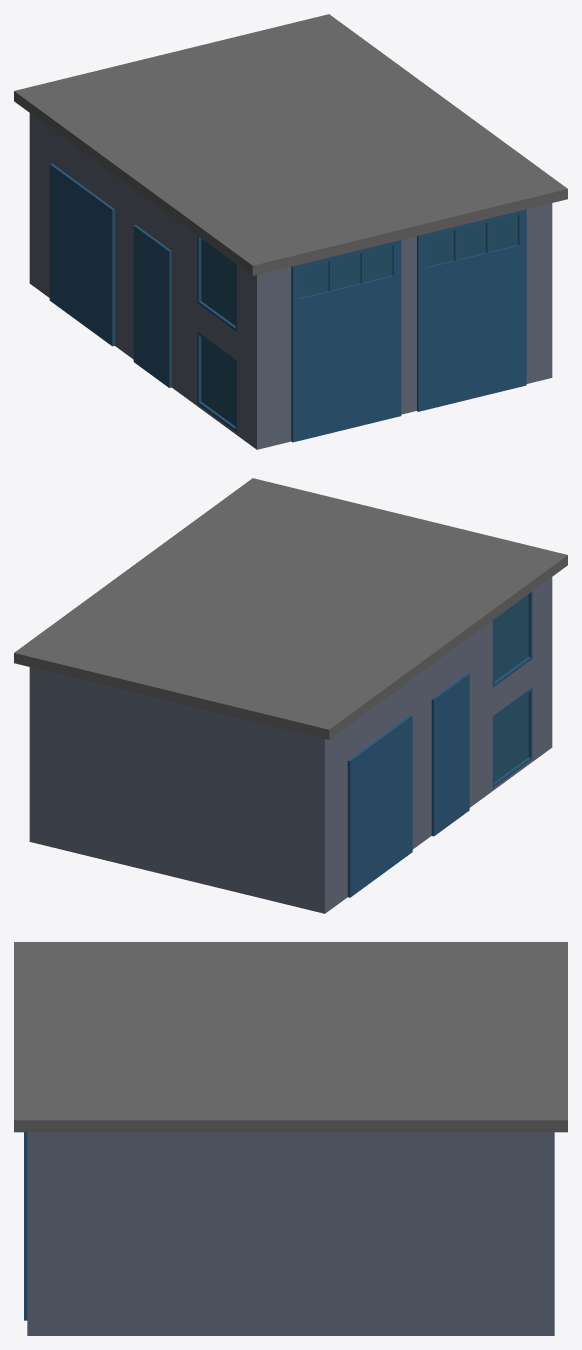
File: transformer-kiosk.lod2.glb
The picture shows the model from 3 angles, top to bottom: view 1: azimuth 30°, elevation 25°; view 2: azimuth 150°, elevation 25°; view 3: azimuth 270°, elevation 25°; orthographic projection. The views are drawn at different scales.
Visible parts, largest first — view 1: Zdanie_ETP_Brick_0; view 2: Zdanie_ETP_Brick_0; view 3: Zdanie_ETP_Brick_0.
Boxes of the visible parts, x1=… form: Zdanie_ETP_Brick_0: x1=14, y1=14, x2=567, y2=449; Zdanie_ETP_Brick_0: x1=14, y1=478, x2=567, y2=913; Zdanie_ETP_Brick_0: x1=14, y1=942, x2=567, y2=1335.
Bounding box in the file's own units: 3.2 × 1.85 × 4.2.
